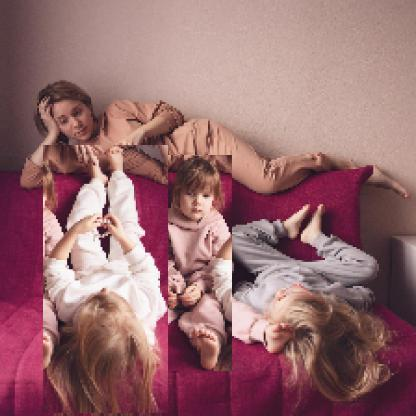child: (44, 146, 170, 415), (225, 204, 392, 403), (147, 156, 234, 373)
